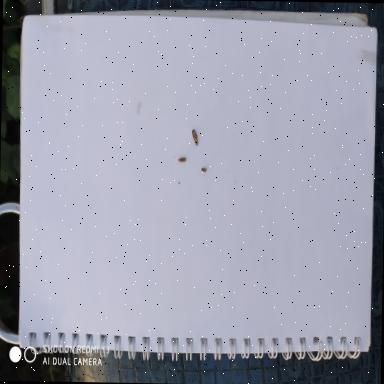pbw: (191, 129, 199, 146)
